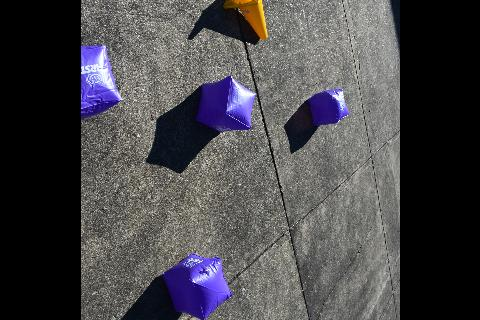cone: (221, 0, 268, 41)
cube: (161, 253, 231, 320), (195, 76, 255, 132), (80, 45, 122, 119), (306, 88, 348, 125)
